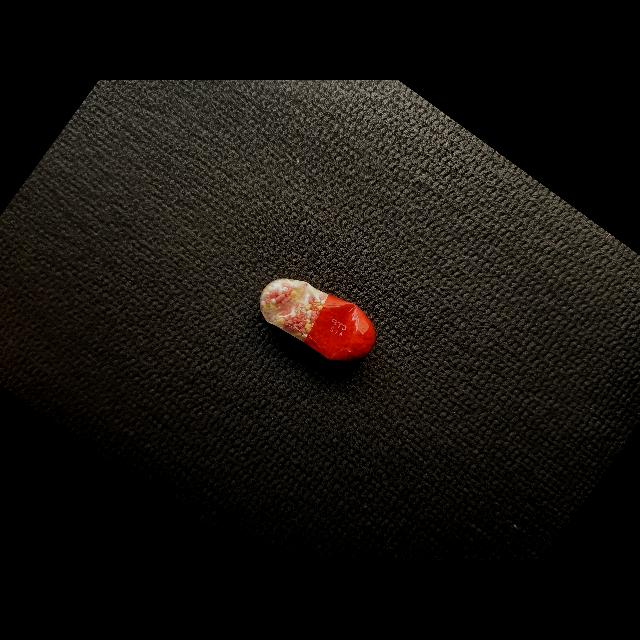Defective Capsule: (260, 278, 376, 361)
